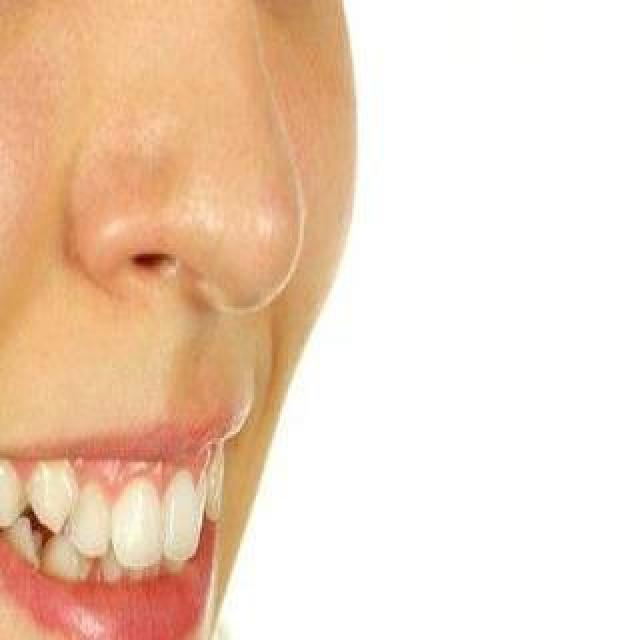maligned: (27, 461, 77, 535), (200, 447, 226, 527)
